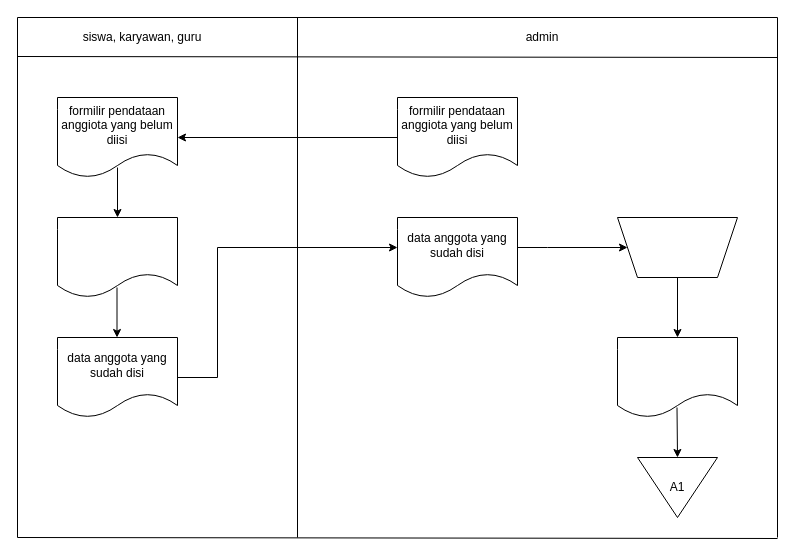
This 796x557 diagram has some shape labels left out. Each missing label, with the box of its shape:
laporan data anggota: (616, 336, 738, 418)
pendataan anggota: (616, 216, 738, 278)
pengisian data anggota: (56, 216, 178, 298)
